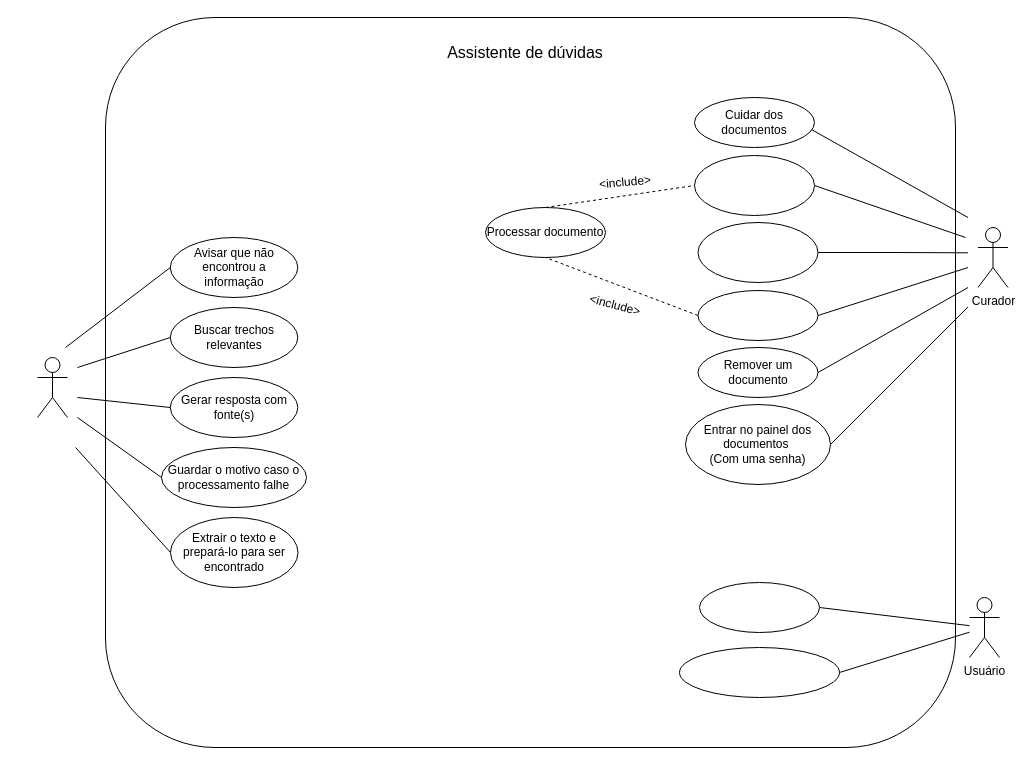
The diagram is 1032 pixels wide and 765 high, and some of its shapes have lost their labels. The shapes that lost their labels are listed below. From the top down, each one's centre as x and y in pixels, then its label:
the point at 754,185: Enviar documentos em HTML ou PDF
the point at 757,252: Acompanhar a situação e cada documento
the point at 757,315: Reprocessar o documento
the point at 52,387: Serviço de IA
the point at 759,607: Iniciar uma sessão de conversa
the point at 759,672: Avaliar cada resposta (útil e não útil)
